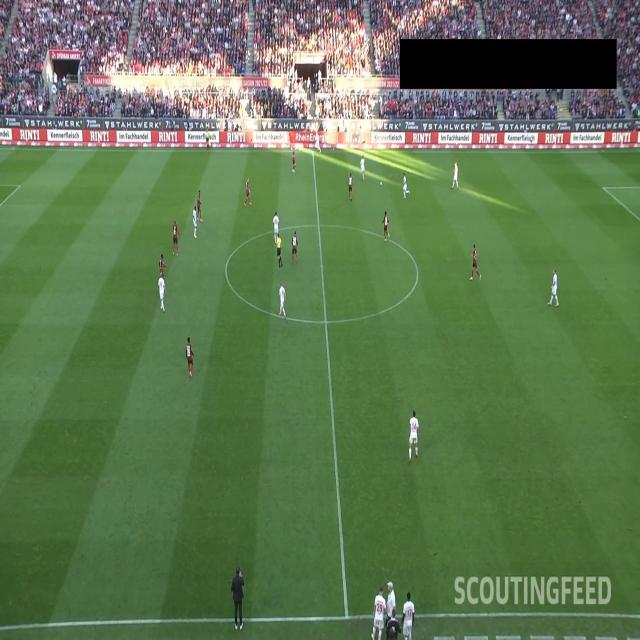ball: (379, 181, 383, 187)
